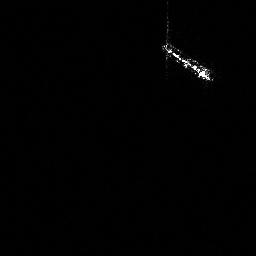ship: (159, 38, 217, 86)
